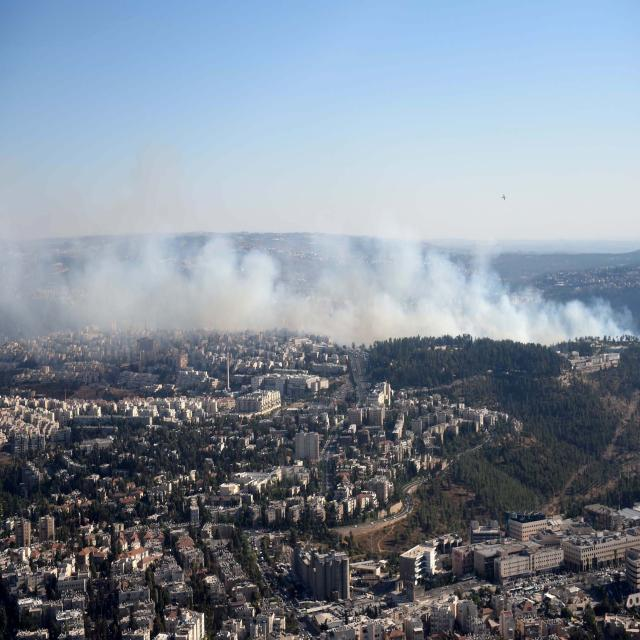Smoke: (0, 213, 640, 345)
